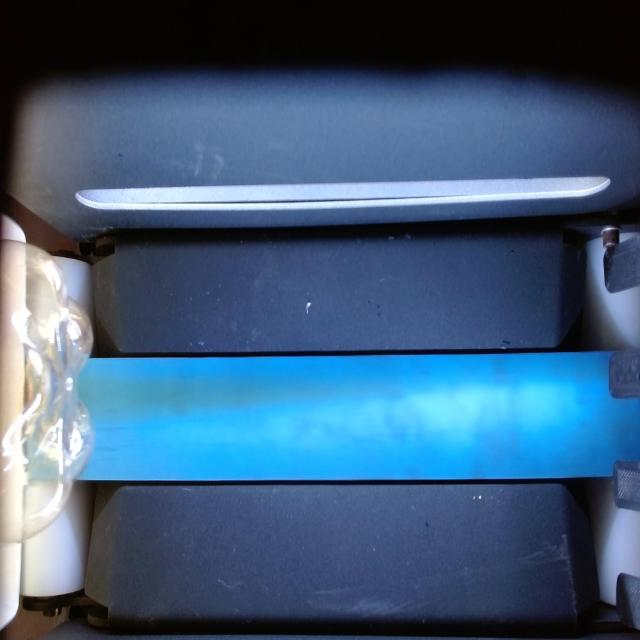bottom: (0, 220, 98, 561)
